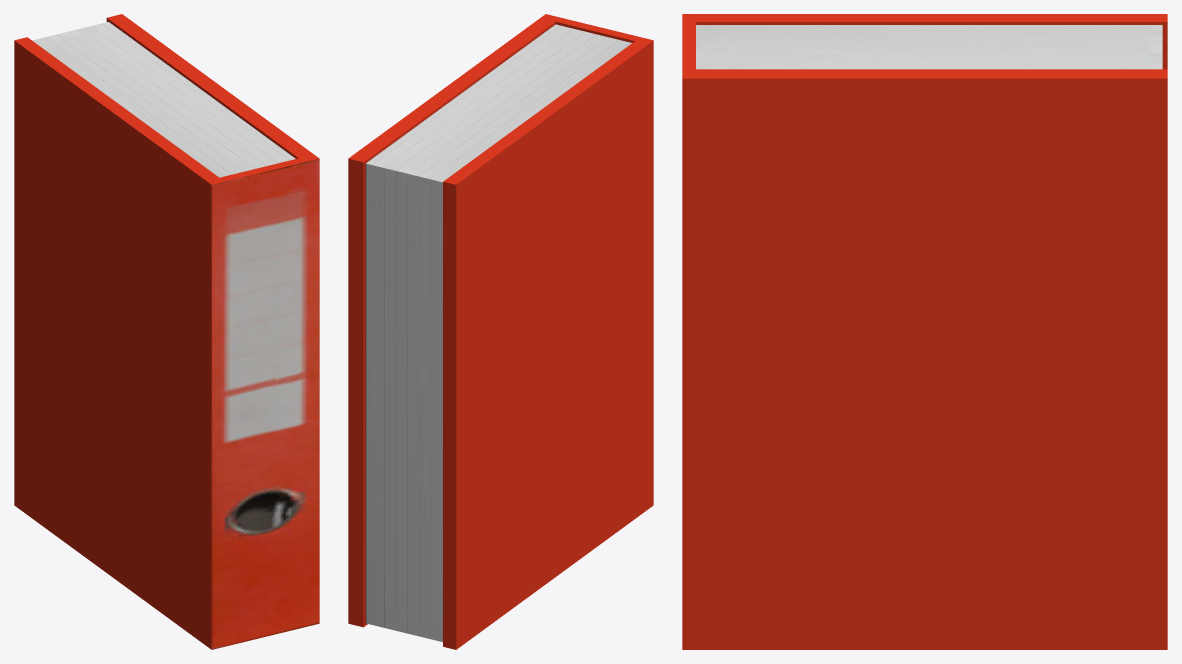
Rendered from boxfile_b.fbx.
3 views of the same model, side by side, from view 1: azimuth 30°, elevation 25°; view 2: azimuth 150°, elevation 25°; view 3: azimuth 270°, elevation 25° (orthographic). The views are drawn at different scales.
Parts seen in each view (by area): view 1: Scene_Root; view 2: Scene_Root; view 3: Scene_Root.
Boxes of the visible parts, <box> form: Scene_Root: <box>14,14,319,649</box>; Scene_Root: <box>348,14,653,649</box>; Scene_Root: <box>682,14,1167,649</box>.
Size of the model in its own units: 4.45 by 18.32 by 14.1.
